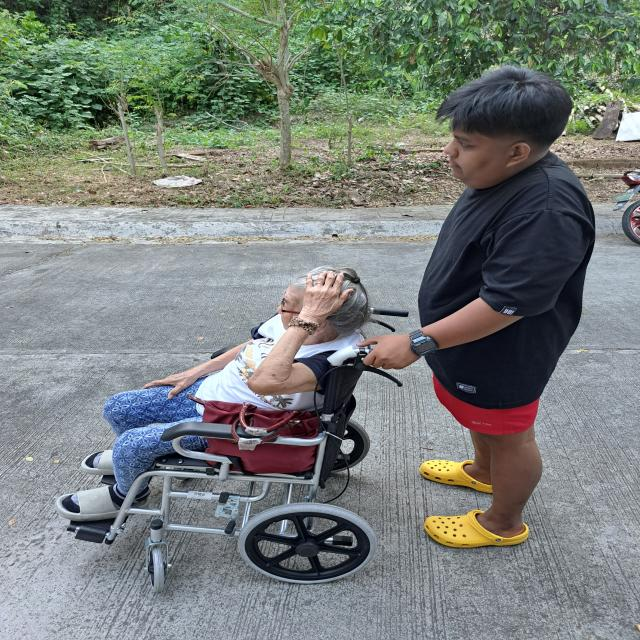wheelchairs: (58, 304, 415, 598)
